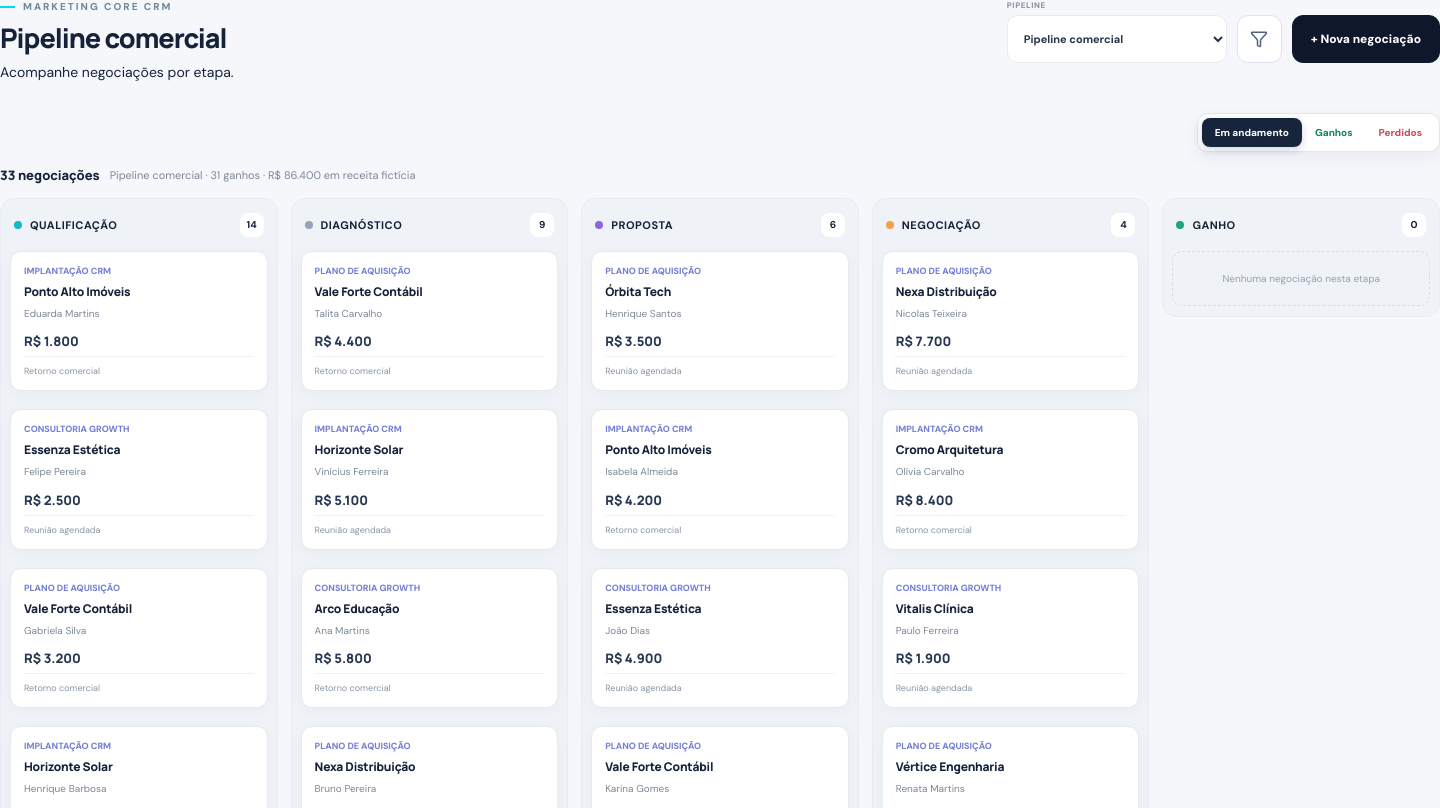
it: configuração de pipelines › separa o status das negociações em um menu simples fora dos filtros avançados
Click the button named "Filtrar pipeline".
click(1259, 39)  # box [1237,15,1282,63]
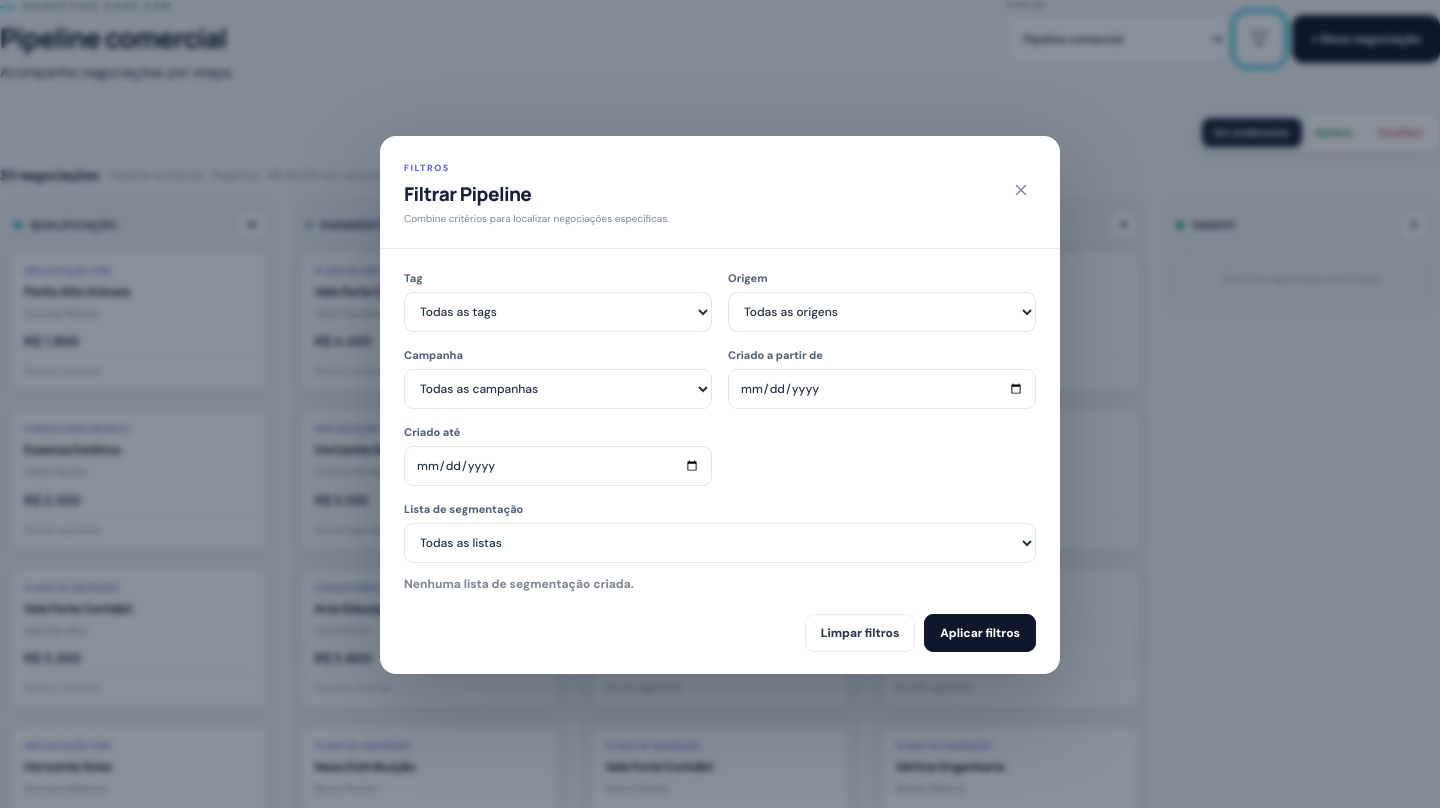
Now the dialog named "Filtros da pipeline" is shown, box [380,136,1060,674]
Now the dropdown named "Filtrar por tag" is shown, box [404,292,712,332]
Now the dropdown named "Filtrar por origem" is shown, box [728,292,1036,332]
Click the button named "Fechar filtros".
click(1021, 192)  # box [1006,157,1036,227]
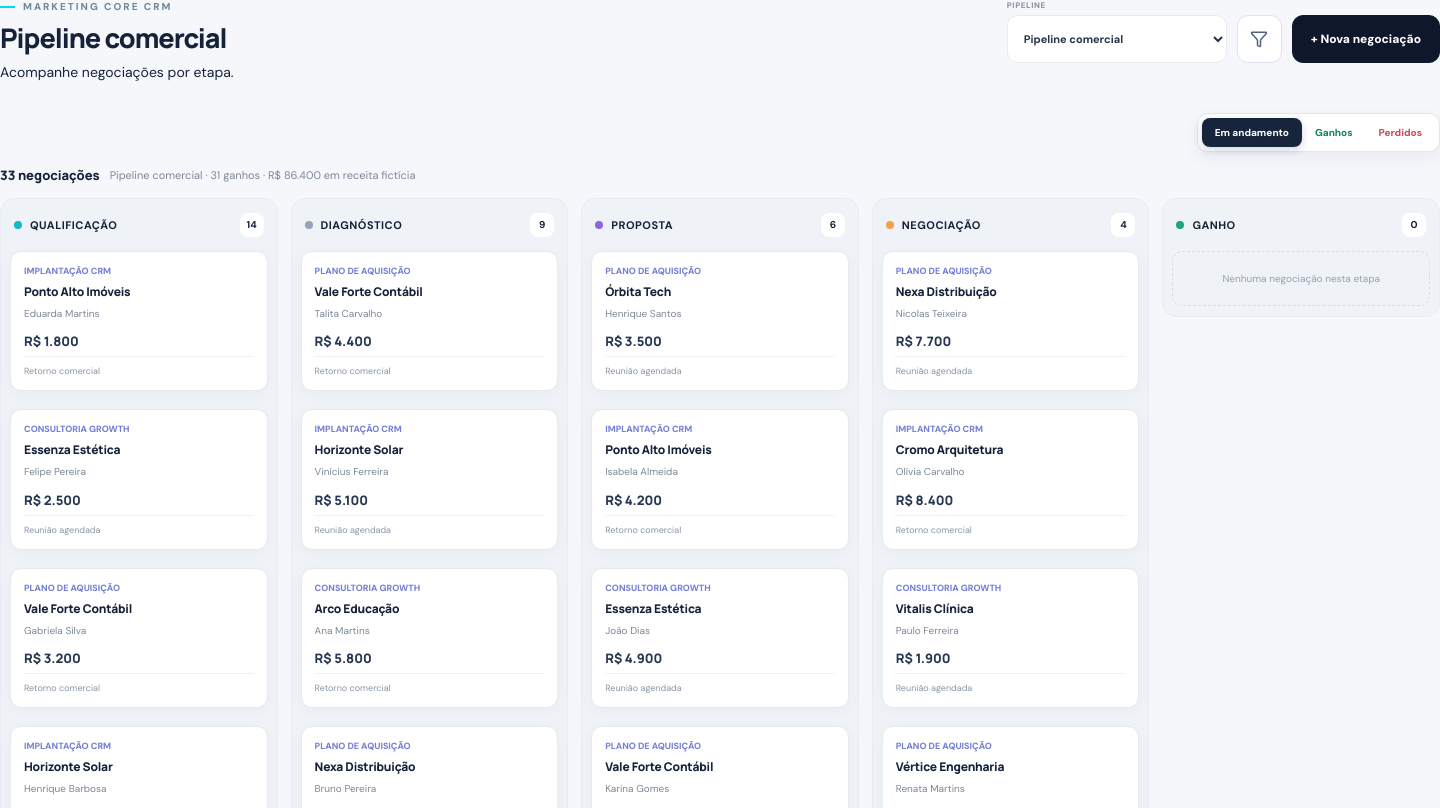
Click the button "Ganhos".
click(1334, 132)  # box [1302,118,1366,147]
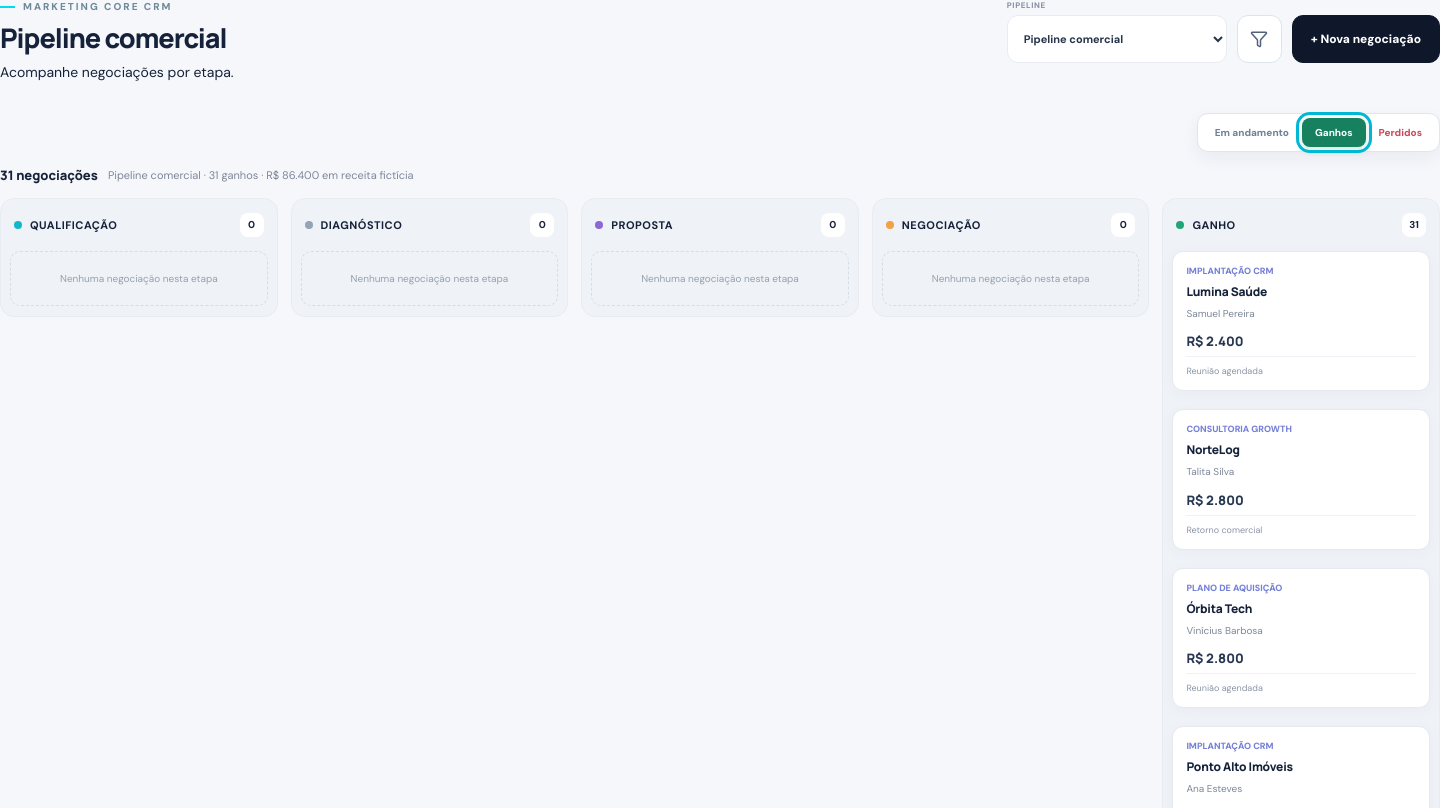
Now the button with test id "deal-card-opp-1" is gone
Now the button with test id "deal-card-opp-34" is shown, box [1172,251,1430,391]
